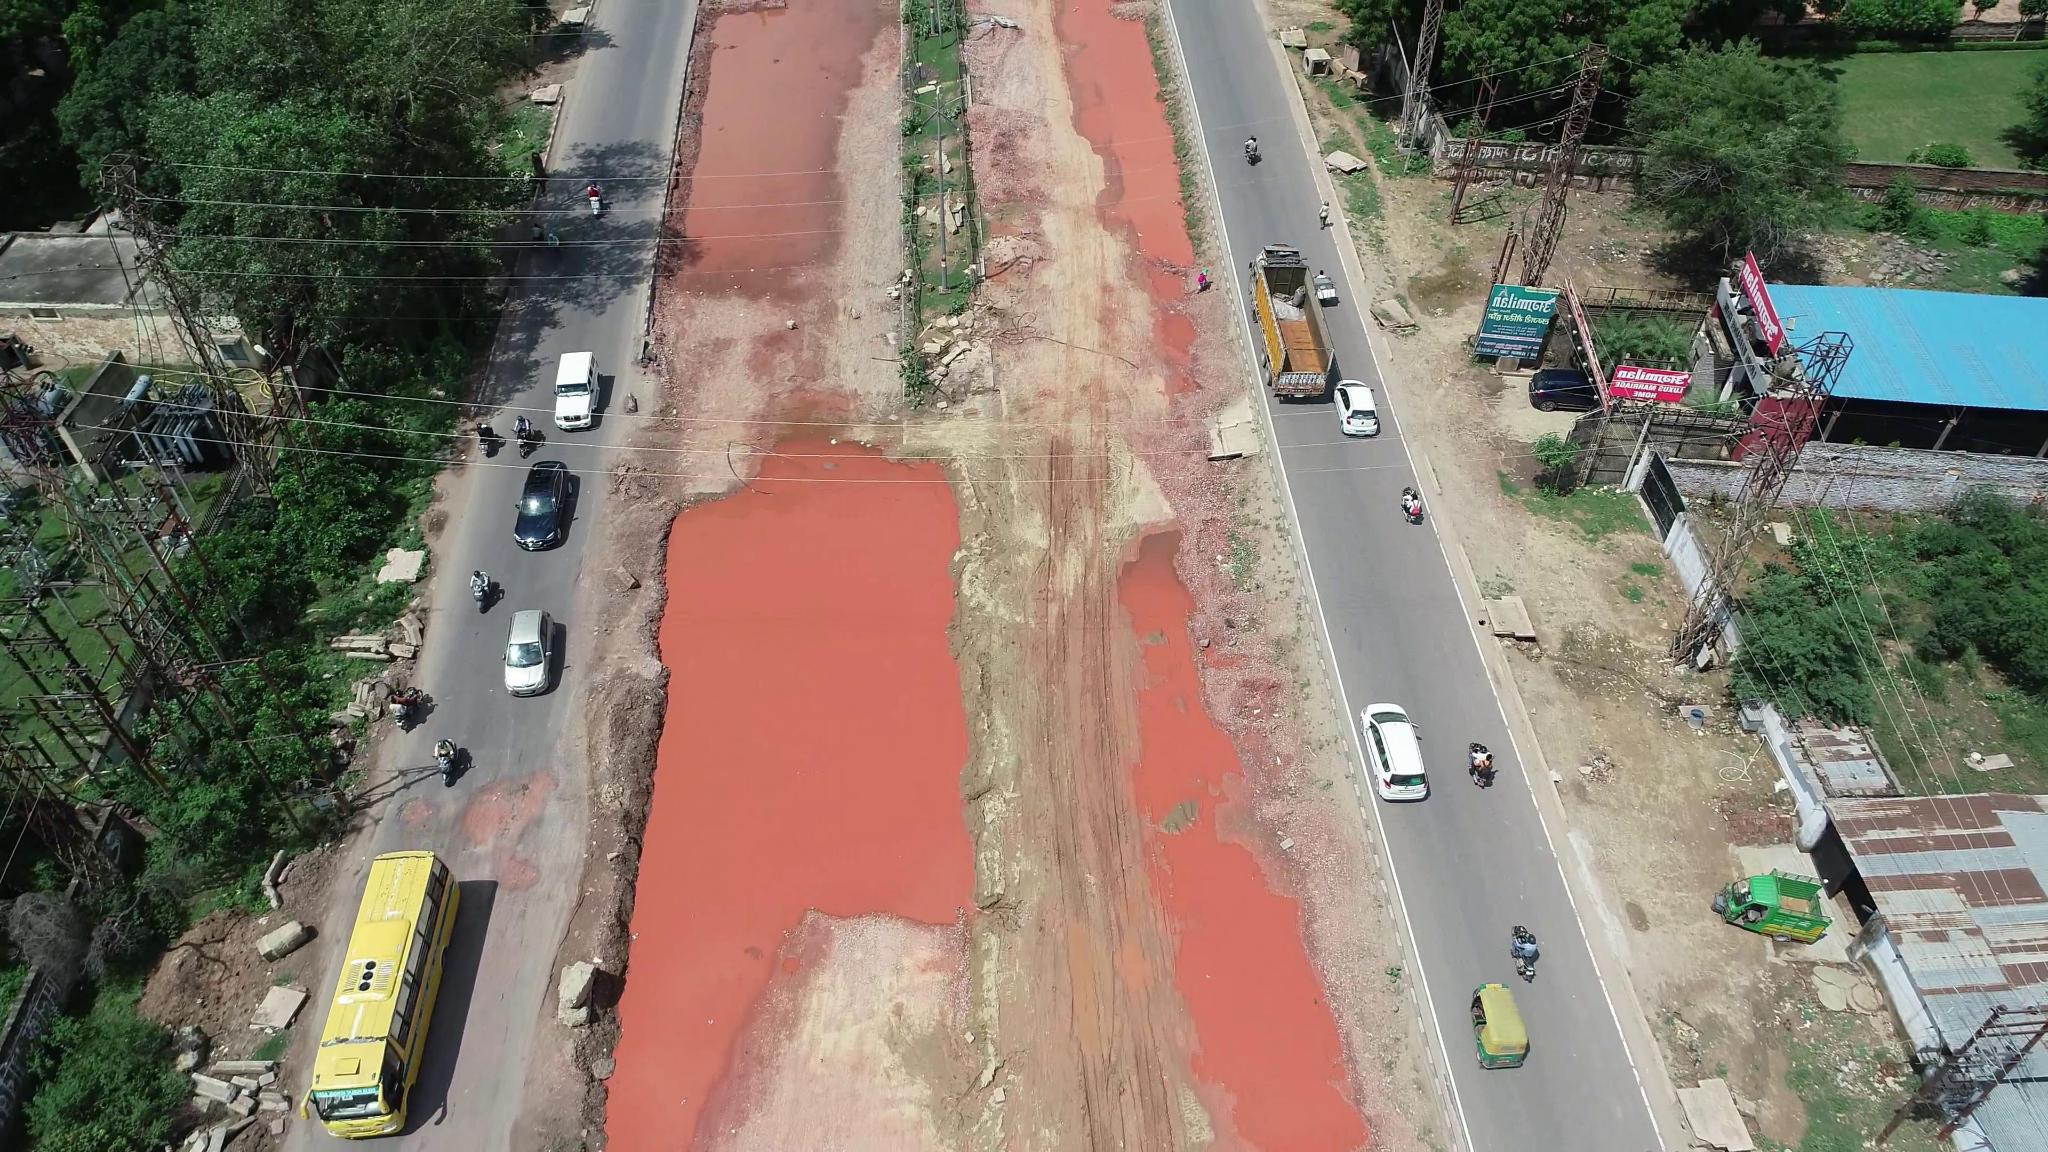Potholes: (385, 786, 456, 847)
